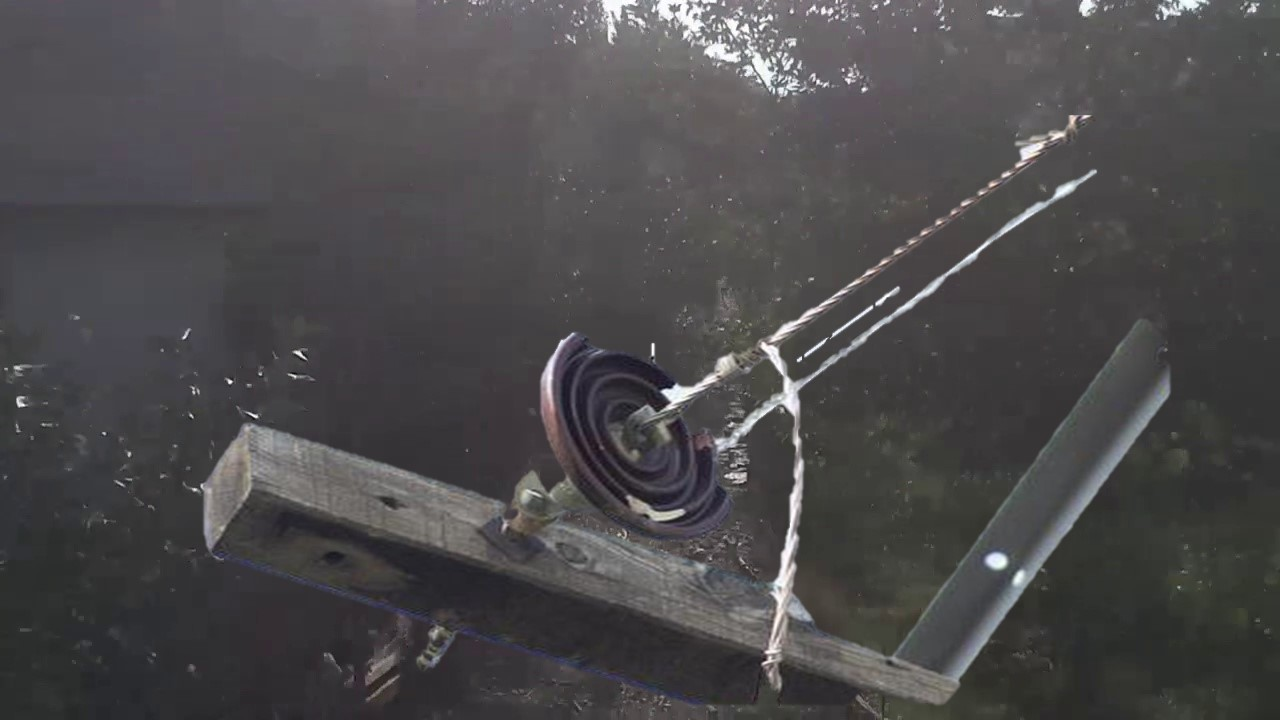defect_disc: (525, 314, 758, 544)
